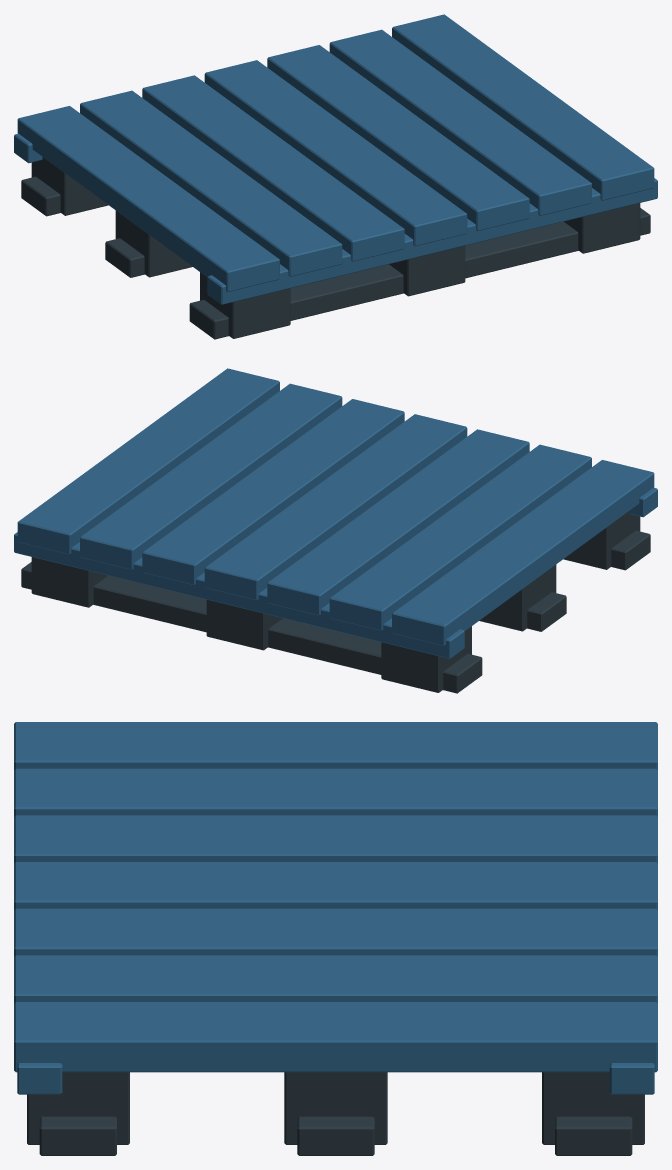
The model's file is b14_rackable_plastic_pallet.glb.
3 views of the same model, one above another, from view 1: azimuth 30°, elevation 25°; view 2: azimuth 150°, elevation 25°; view 3: azimuth 270°, elevation 25° (orthographic). The views are drawn at different scales.
Visible parts, largest first — view 1: b14_rackable_plastic_pallet; view 2: b14_rackable_plastic_pallet; view 3: b14_rackable_plastic_pallet.
Part boxes in pixels (x1,y1,x2,y2): b14_rackable_plastic_pallet: (14, 14, 657, 339); b14_rackable_plastic_pallet: (14, 368, 657, 693); b14_rackable_plastic_pallet: (14, 722, 657, 1155).
Size of the model in its own units: 1.2 by 0.1925 by 1.
